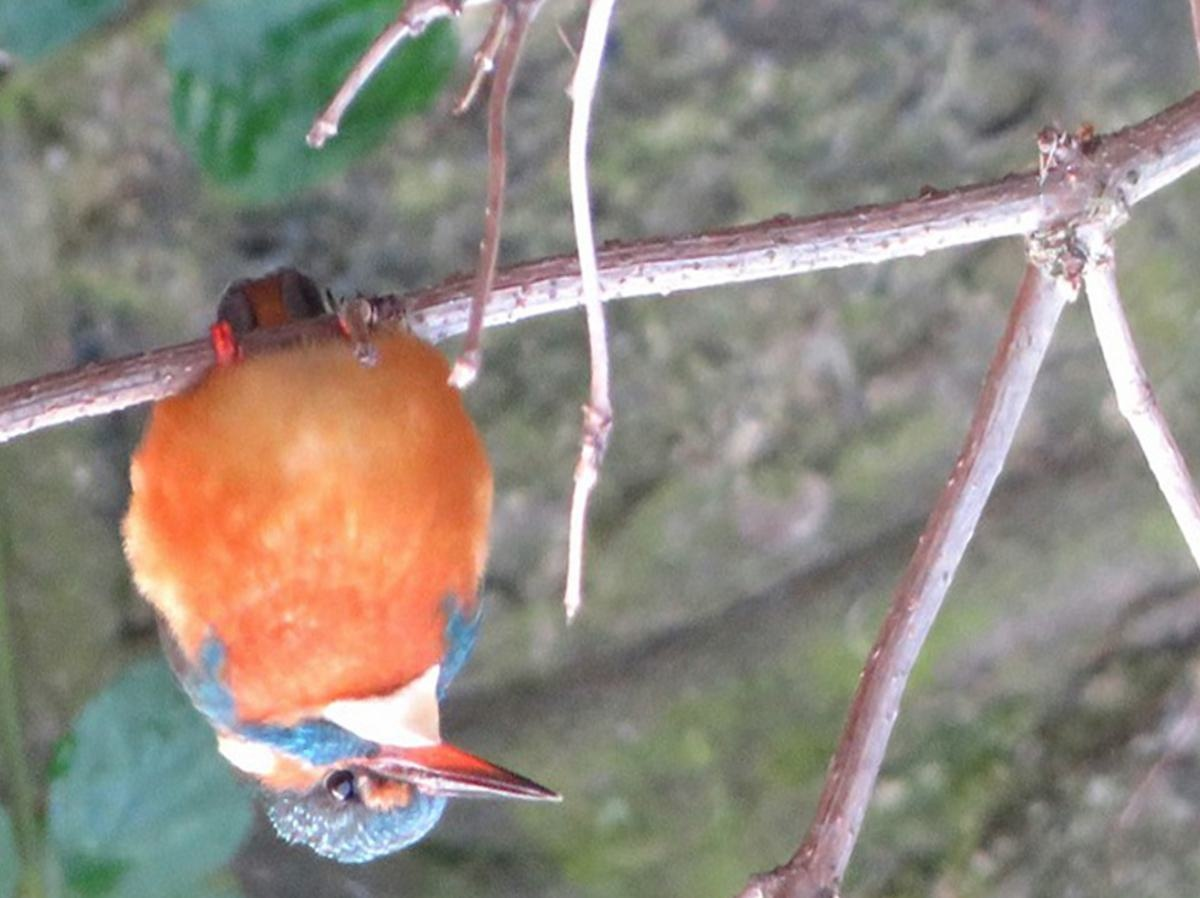kingfisher: (118, 239, 492, 873)
